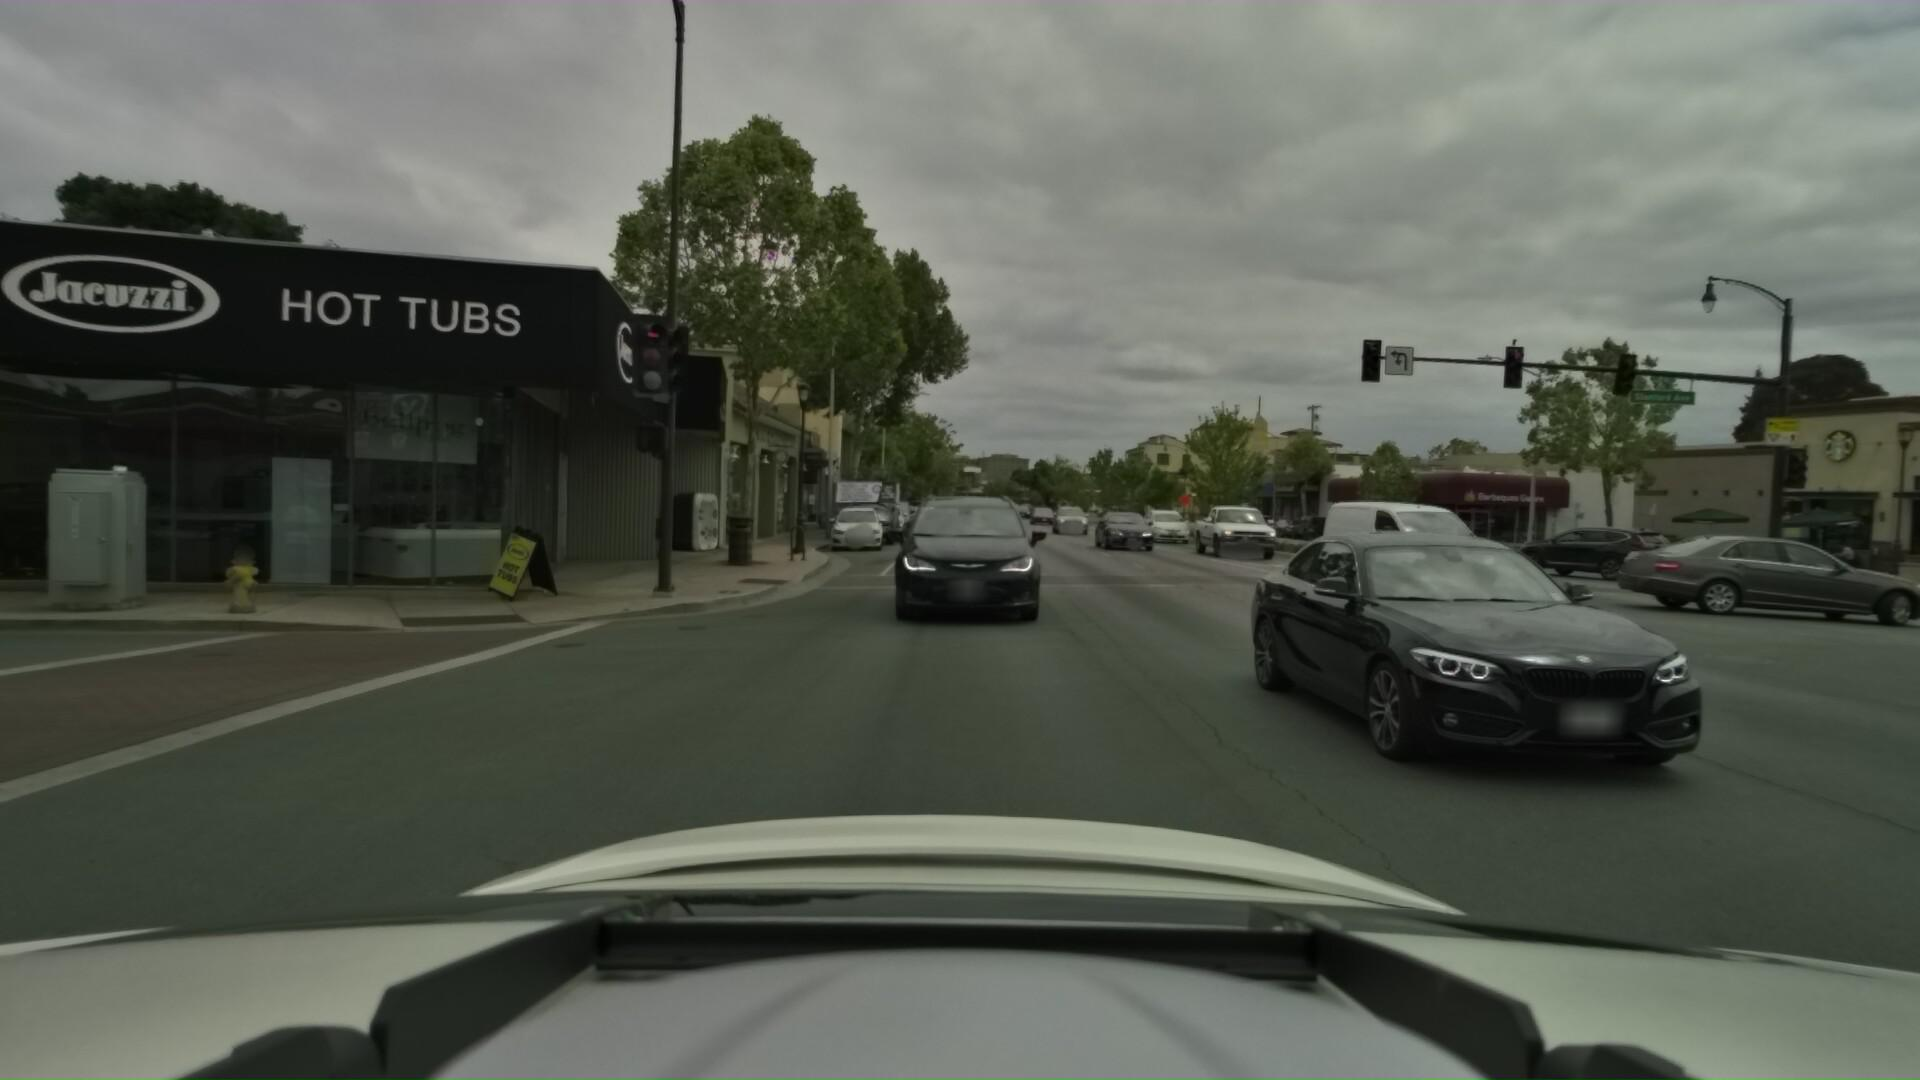car: (1218, 483, 1808, 815), (1594, 520, 1920, 625), (862, 477, 1067, 642), (1304, 495, 1513, 597), (1472, 512, 1648, 574), (1185, 491, 1276, 558), (815, 493, 890, 550), (1087, 497, 1156, 553), (1134, 500, 1191, 545), (847, 496, 899, 542), (874, 495, 919, 535), (862, 497, 910, 533), (1047, 496, 1088, 531), (1025, 496, 1056, 524)
